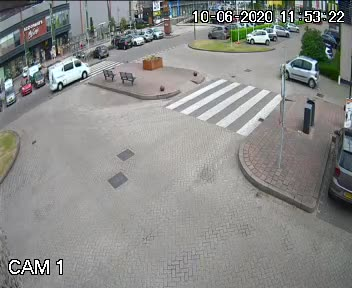car: (41, 54, 96, 91), (277, 52, 322, 88)
